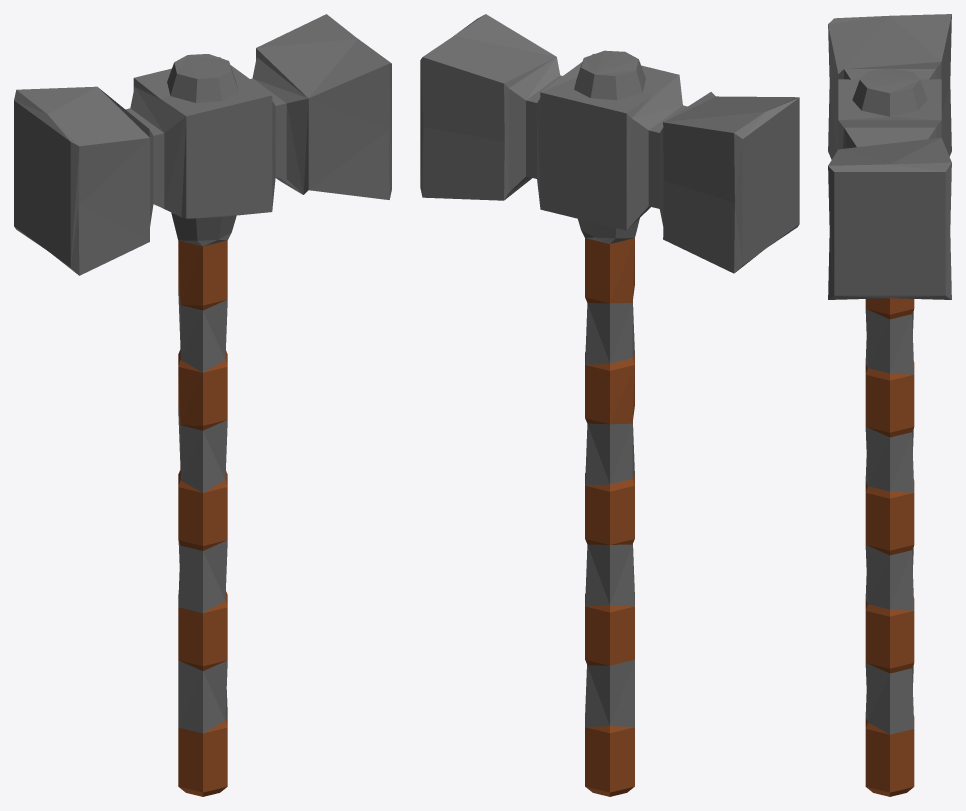
Rendered from hammer_4.FBX.
The picture shows the model from 3 angles, left to right: view 1: azimuth 30°, elevation 25°; view 2: azimuth 150°, elevation 25°; view 3: azimuth 270°, elevation 25°; orthographic projection. The views are drawn at different scales.
Parts seen in each view (by area): view 1: hamer_nordic_low_poly_2; view 2: hamer_nordic_low_poly_2; view 3: hamer_nordic_low_poly_2.
Part boxes in pixels (bbox=[...]): hamer_nordic_low_poly_2: bbox=[14, 14, 391, 796]; hamer_nordic_low_poly_2: bbox=[420, 14, 799, 796]; hamer_nordic_low_poly_2: bbox=[828, 14, 951, 796].
Bounding box in the file's own units: 65.2 × 140 × 22.2.
Materials: 1 (1 with a texture image).
